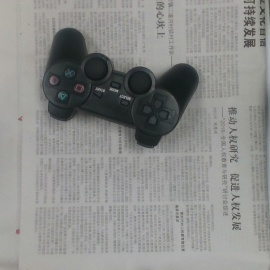remote: (43, 26, 200, 150)
